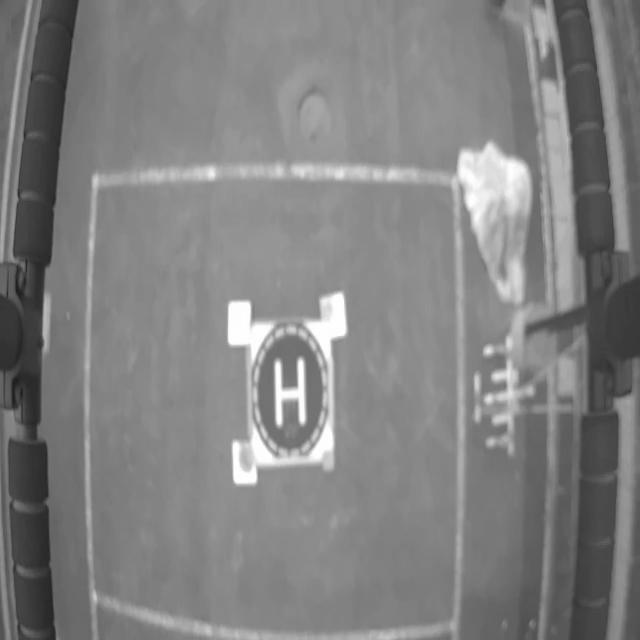Helipad: (275, 358, 306, 425)
